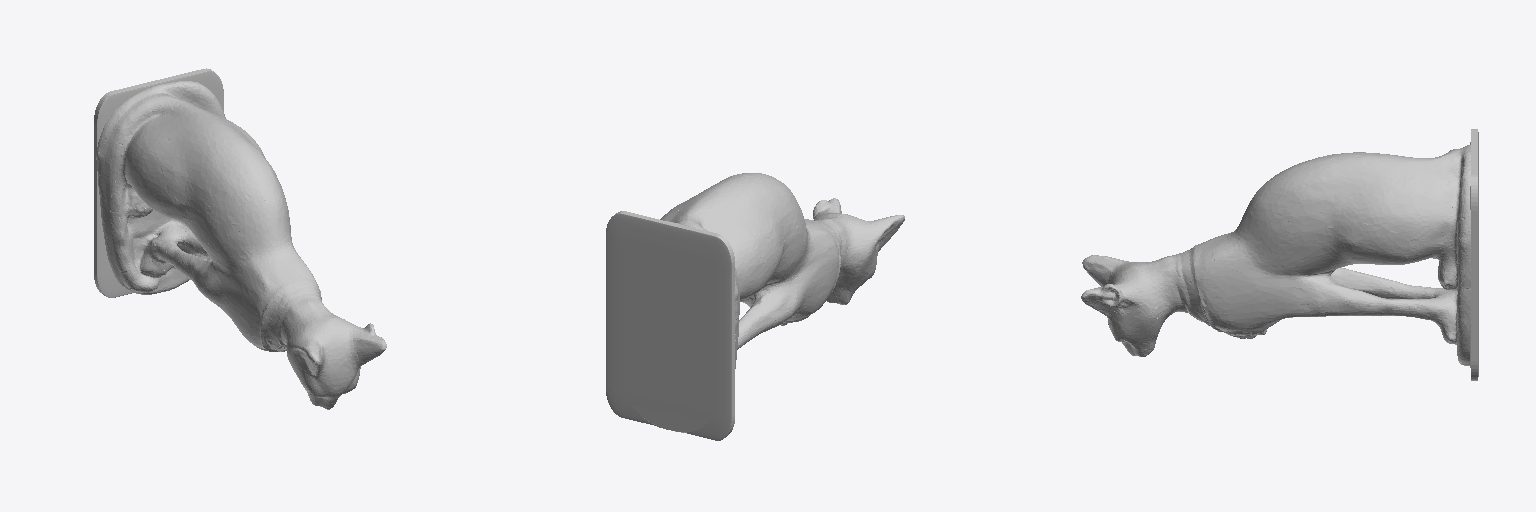
Rendered from tinker.obj.
3 renders of one model, left to right at view 1: azimuth 30°, elevation 25°; view 2: azimuth 150°, elevation 25°; view 3: azimuth 270°, elevation 25°, orthographic.
Visible parts, largest first — view 1: obj_0; view 2: obj_0; view 3: obj_0.
Boxes of the visible parts, x1=… form: obj_0: x1=94, y1=68, x2=386, y2=409; obj_0: x1=606, y1=173, x2=904, y2=440; obj_0: x1=1081, y1=129, x2=1478, y2=380.
Bounding box in the file's own units: 50.75 × 78 × 136.